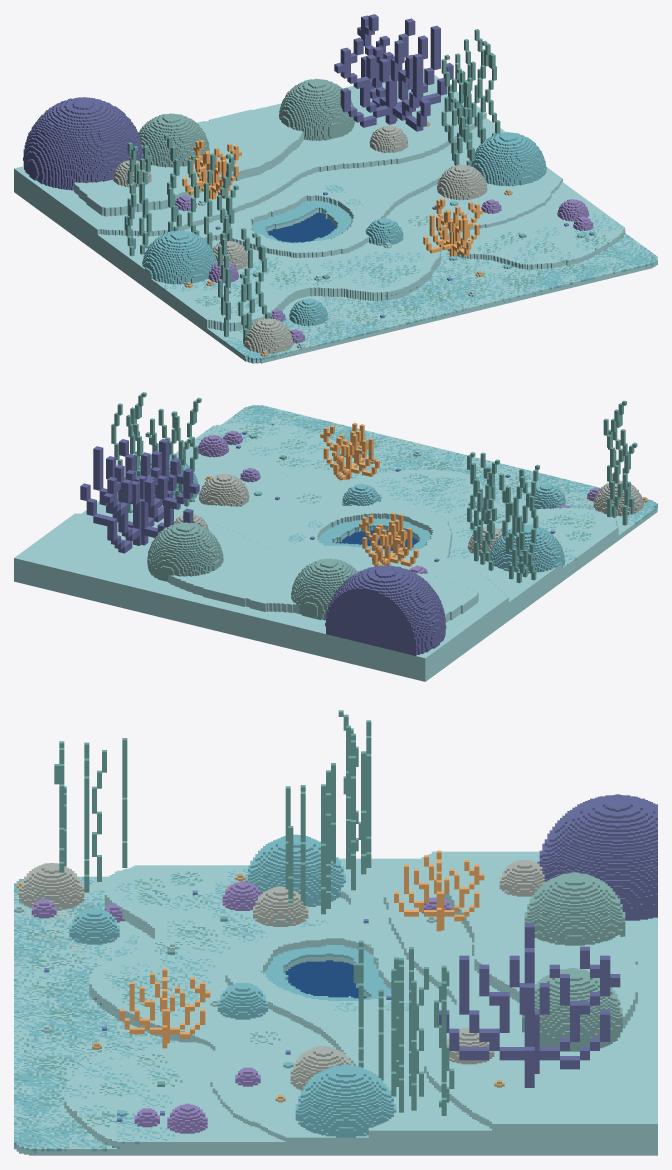
The model's file is island.glb.
3 views of the same model, one above another, from view 1: azimuth 30°, elevation 25°; view 2: azimuth 150°, elevation 25°; view 3: azimuth 270°, elevation 25° (orthographic). The views are drawn at different scales.
Parts seen in each view (by area): view 1: Polygon; view 2: Polygon; view 3: Polygon.
Boxes of the visible parts, box(x1,y1,x2,y2) form: Polygon: box(14, 14, 657, 363); Polygon: box(14, 392, 657, 681); Polygon: box(14, 710, 657, 1155).
Bounding box in the file's own units: 25.6 × 7.7 × 25.6.
Materials: 1 (1 with a texture image).
